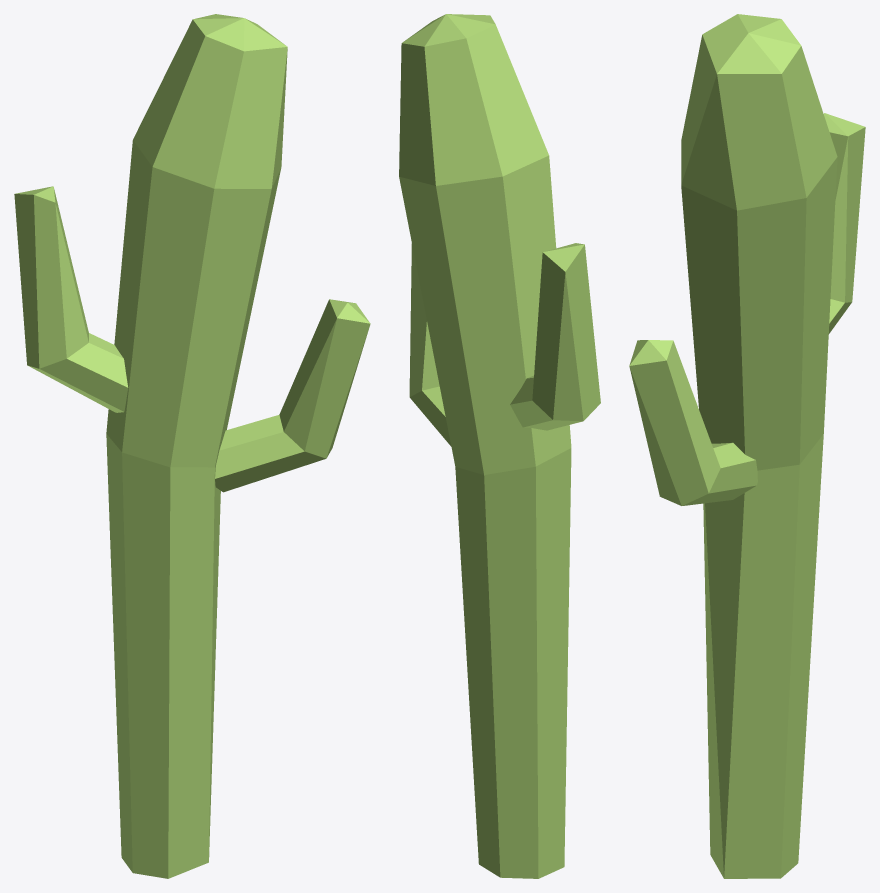
Rendered from Cactus_l_BT_06.fbx.
3 views of the same model, side by side, from view 1: azimuth 30°, elevation 25°; view 2: azimuth 150°, elevation 25°; view 3: azimuth 270°, elevation 25° (orthographic). The views are drawn at different scales.
Parts seen in each view (by area): view 1: Cactus_l_BT_06; view 2: Cactus_l_BT_06; view 3: Cactus_l_BT_06.
Part boxes in pixels (x1,y1,x2,y2): Cactus_l_BT_06: [14, 14, 370, 878]; Cactus_l_BT_06: [399, 14, 600, 878]; Cactus_l_BT_06: [629, 14, 865, 878].
Size of the model in its own units: 119 by 370 by 91.
